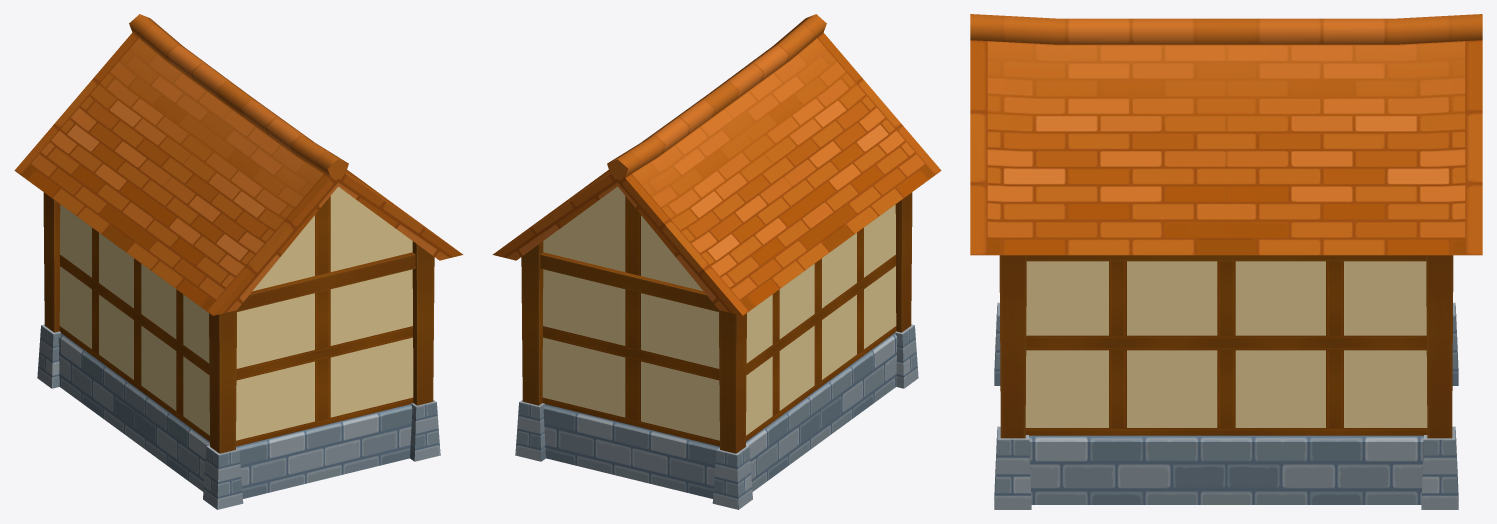
File: HOS0310005.fbx
3 views of the same model, side by side, from view 1: azimuth 30°, elevation 25°; view 2: azimuth 150°, elevation 25°; view 3: azimuth 270°, elevation 25° (orthographic). The views are drawn at different scales.
Parts seen in each view (by area): view 1: smHOS0310005; view 2: smHOS0310005; view 3: smHOS0310005.
Part boxes in pixels (x1,y1,x2,y2): smHOS0310005: (14, 14, 463, 509); smHOS0310005: (492, 14, 941, 509); smHOS0310005: (970, 14, 1482, 509).
Bounding box in the file's own units: 286 × 360 × 393.
Materials: 1 (1 with a texture image).
